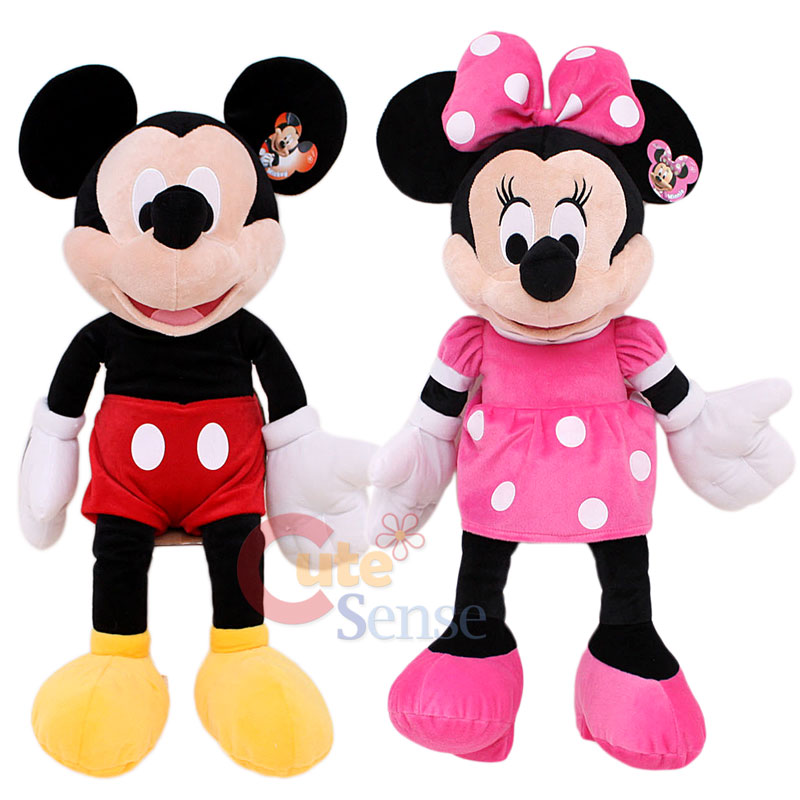Mickey: (15, 53, 350, 345)
